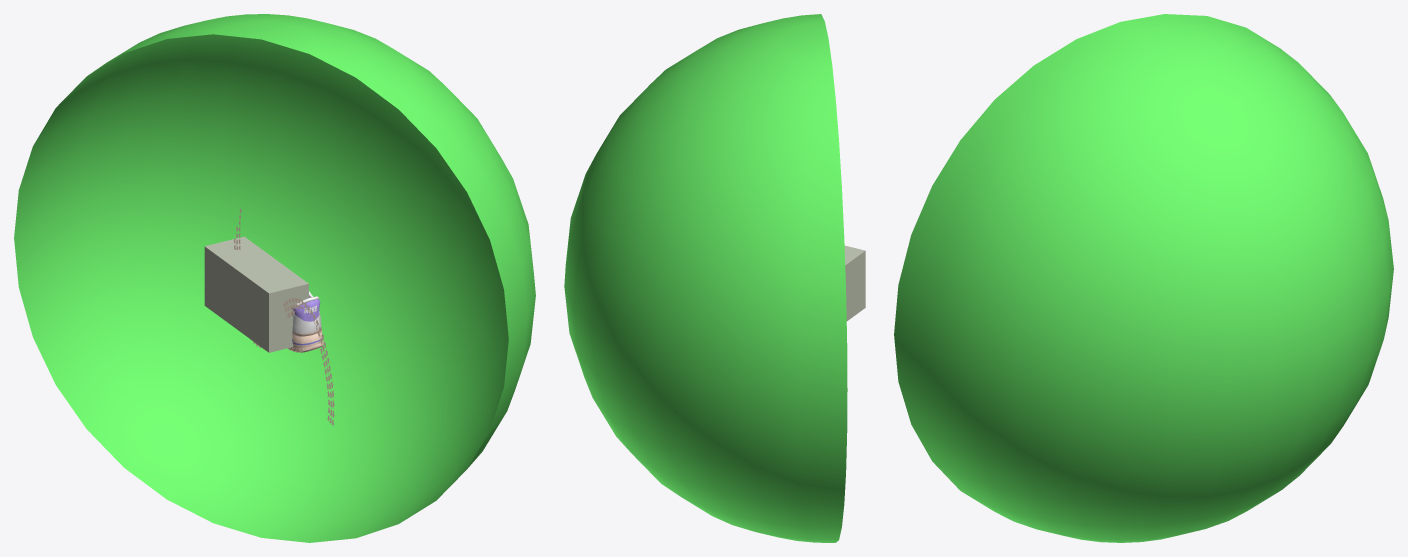
The model's file is air_force_v2.glb.
3 views of the same model, side by side, from view 1: azimuth 30°, elevation 25°; view 2: azimuth 150°, elevation 25°; view 3: azimuth 270°, elevation 25° (orthographic). The views are drawn at different scales.
Parts seen in each view (by area): view 1: Sphère.001, cube de ref, stars.009; view 2: Sphère.001, cube de ref; view 3: Sphère.001.
Boxes of the visible parts, <box> form: Sphère.001: <box>14,14,535,542</box>; cube de ref: <box>204,236,308,352</box>; stars.009: <box>283,297,334,426</box>; Sphère.001: <box>564,14,847,542</box>; cube de ref: <box>844,245,865,321</box>; Sphère.001: <box>894,14,1393,542</box>.
Size of the model in its own units: 23.24 by 29.78 by 27.22.
13 materials, 2 textured.
